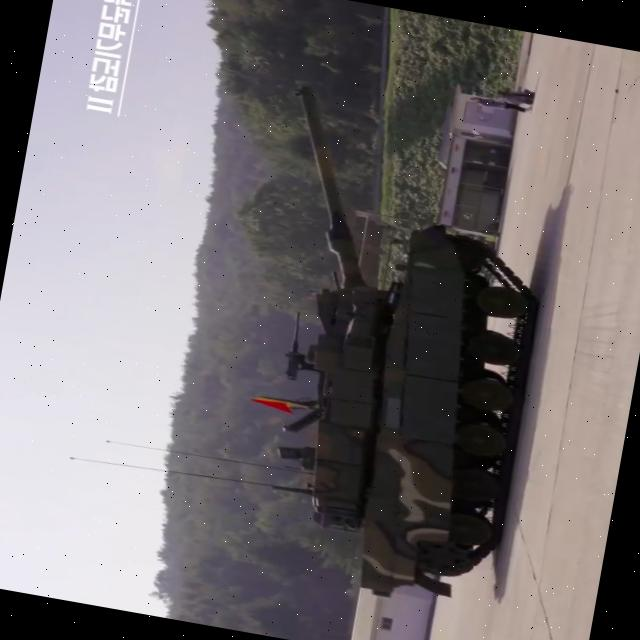korea tank: (204, 78, 574, 615)
